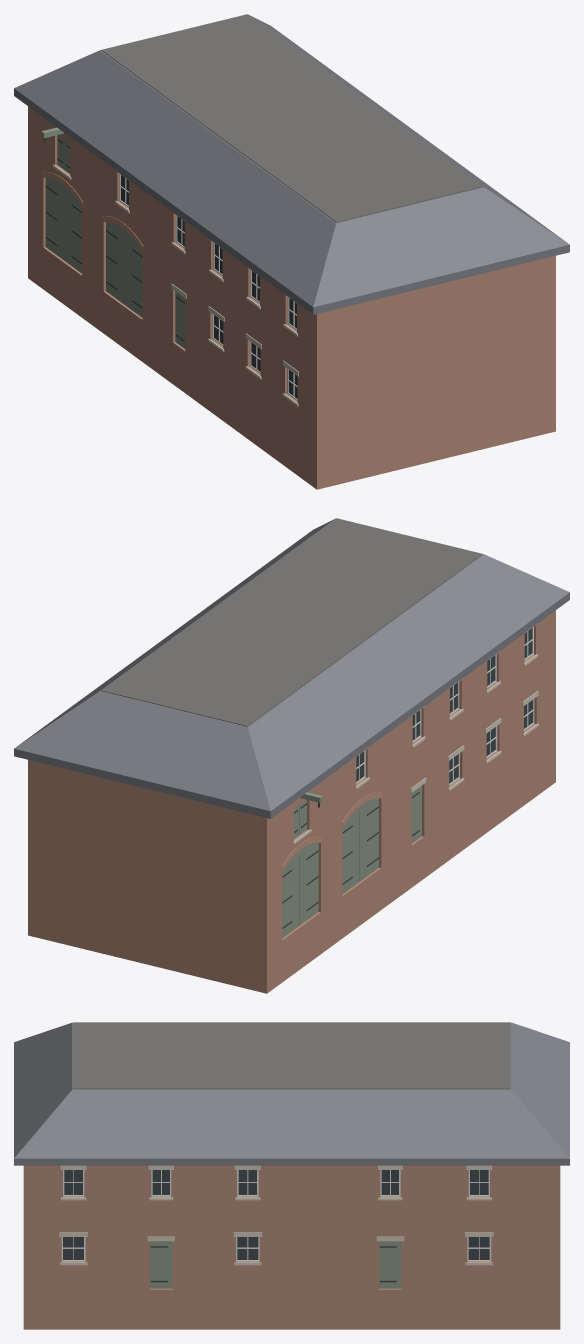
File: sherman_house_2100_prairie_coach_house__as_standing_1904.glb
3 views of the same model, one above another, from view 1: azimuth 30°, elevation 25°; view 2: azimuth 150°, elevation 25°; view 3: azimuth 270°, elevation 25° (orthographic). The views are drawn at different scales.
Parts seen in each view (by area): view 1: sherman_house_2100_prairie_coach_house__as_standing_1904; view 2: sherman_house_2100_prairie_coach_house__as_standing_1904; view 3: sherman_house_2100_prairie_coach_house__as_standing_1904.
Boxes of the visible parts, x1,y1,x2,y2 form: sherman_house_2100_prairie_coach_house__as_standing_1904: [14, 14, 569, 489]; sherman_house_2100_prairie_coach_house__as_standing_1904: [14, 518, 569, 993]; sherman_house_2100_prairie_coach_house__as_standing_1904: [14, 1022, 569, 1329].
Size of the model in its own units: 12.04 by 10.17 by 23.3.
